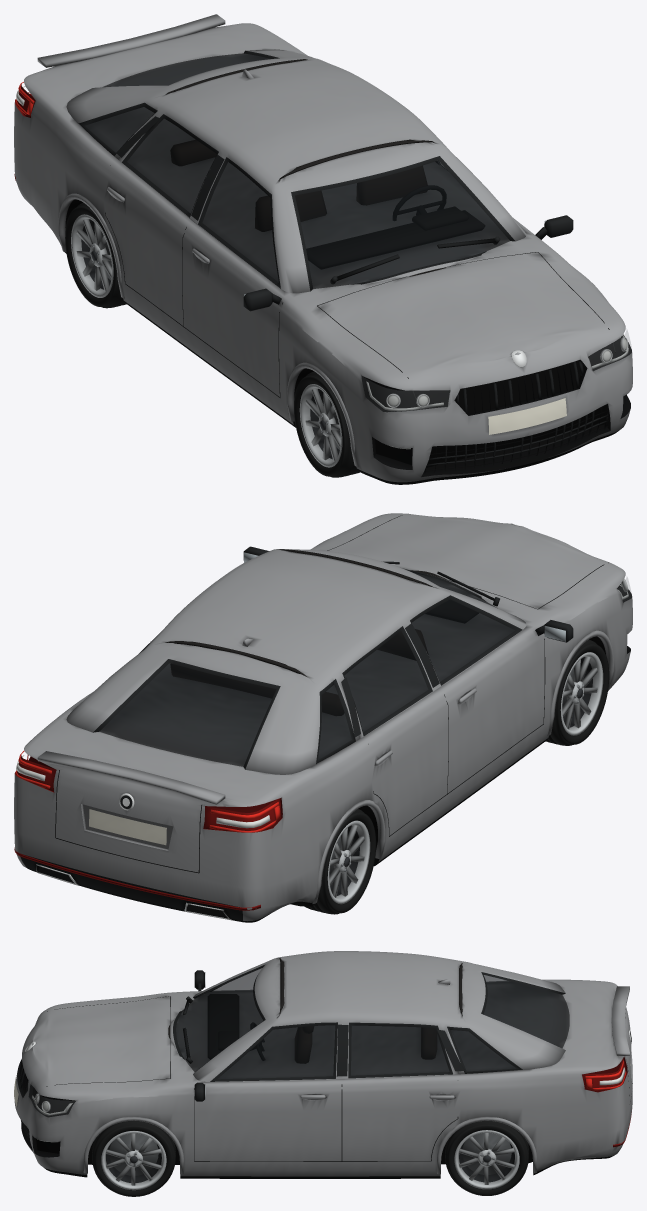
Rendered from skoda-octavia-rs.glb.
The picture shows the model from 3 angles, top to bottom: view 1: azimuth 30°, elevation 25°; view 2: azimuth 150°, elevation 25°; view 3: azimuth 270°, elevation 25°; orthographic projection. The views are drawn at different scales.
Parts seen in each view (by area): view 1: Coachwork, Body, Wheel_FR, Wheel_RR, Plate, Headlights; view 2: Coachwork, Body, Wheel_FR, Wheel_RR, Taillights, Plate; view 3: Coachwork, Body, Wheel_FL, Wheel_RL, Taillights.
Boxes of the visible parts, bbox=[...] form: Coachwork: bbox=[14, 23, 632, 484]; Body: bbox=[14, 14, 631, 473]; Wheel_FR: bbox=[294, 371, 359, 477]; Wheel_RR: bbox=[65, 202, 126, 308]; Plate: bbox=[488, 398, 566, 434]; Headlights: bbox=[366, 335, 628, 449]; Coachwork: bbox=[14, 513, 632, 922]; Body: bbox=[14, 513, 631, 920]; Wheel_FR: bbox=[545, 639, 609, 745]; Wheel_RR: bbox=[304, 809, 376, 914]; Taillights: bbox=[15, 751, 281, 832]; Plate: bbox=[89, 809, 166, 845]; Coachwork: bbox=[14, 979, 632, 1178]; Body: bbox=[19, 951, 632, 1174]; Wheel_FL: bbox=[92, 1120, 175, 1196]; Wheel_RL: bbox=[445, 1121, 528, 1195]; Taillights: bbox=[582, 1058, 626, 1091].
Size of the model in its own units: 2.18 by 1.45 by 4.7.
